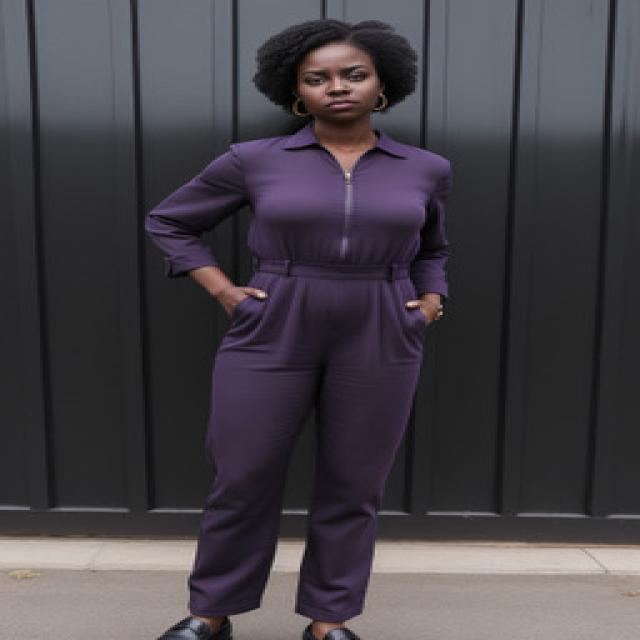Ai human 2: (125, 11, 478, 640)
